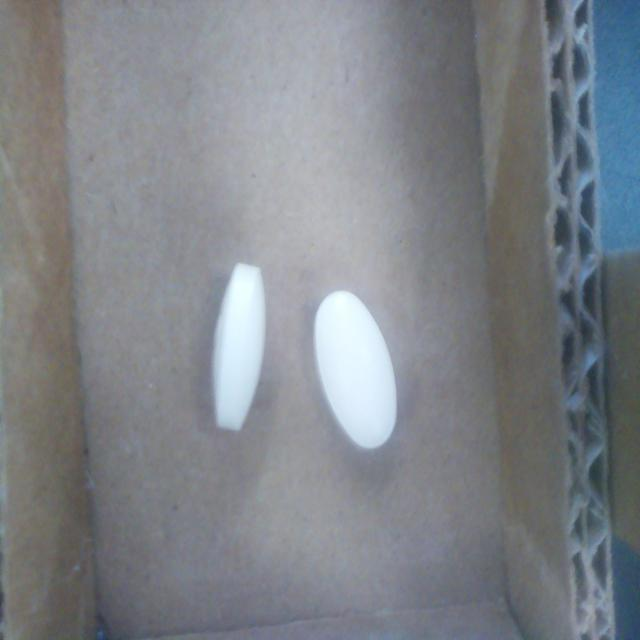pill: (314, 291, 397, 449), (212, 263, 265, 429)
